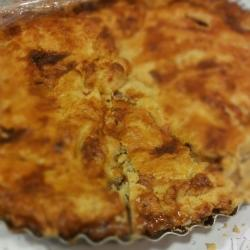apple_pie: (2, 5, 247, 236)
